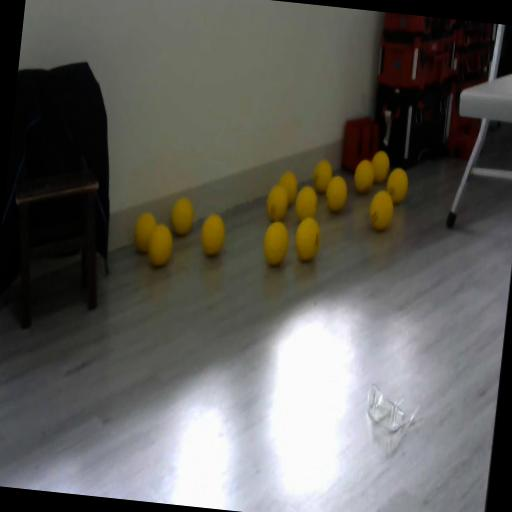FUEL: (260, 218, 292, 268), (292, 215, 322, 262), (199, 212, 227, 258), (367, 189, 395, 232), (132, 211, 158, 255), (293, 184, 319, 224), (324, 173, 350, 213), (384, 166, 410, 206), (170, 196, 195, 237), (352, 158, 376, 195), (276, 170, 299, 208), (368, 148, 392, 184), (311, 158, 334, 194)
